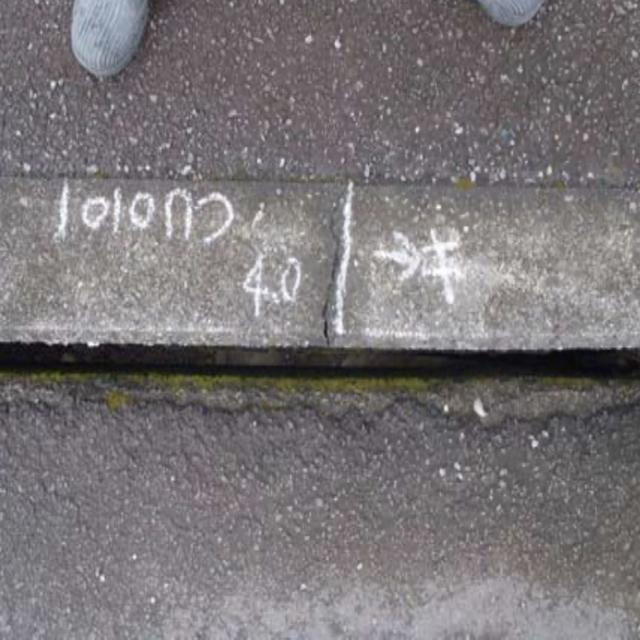crack: (310, 185, 344, 348)
